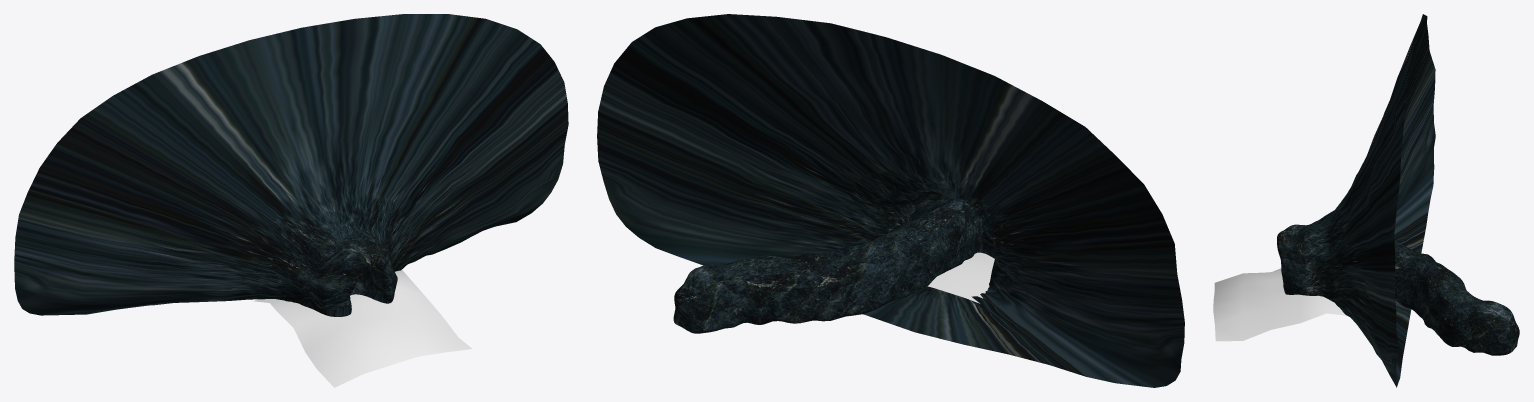
File: lamina_cave_2.glb
3 views of the same model, side by side, from view 1: azimuth 30°, elevation 25°; view 2: azimuth 150°, elevation 25°; view 3: azimuth 270°, elevation 25° (orthographic). The views are drawn at different scales.
Visible parts, largest first — view 1: LaminaCave2, Grass; view 2: LaminaCave2, Grass; view 3: LaminaCave2, Grass.
Part boxes in pixels (<box>): LaminaCave2: <box>14,14,568,316</box>; Grass: <box>253,270,472,387</box>; LaminaCave2: <box>597,14,1184,387</box>; Grass: <box>927,252,994,303</box>; LaminaCave2: <box>1277,14,1519,387</box>; Grass: <box>1213,268,1346,341</box>.
Bounding box in the file's own units: 43.48 × 20.66 × 23.32.
Materials: 1 (1 with a texture image).
